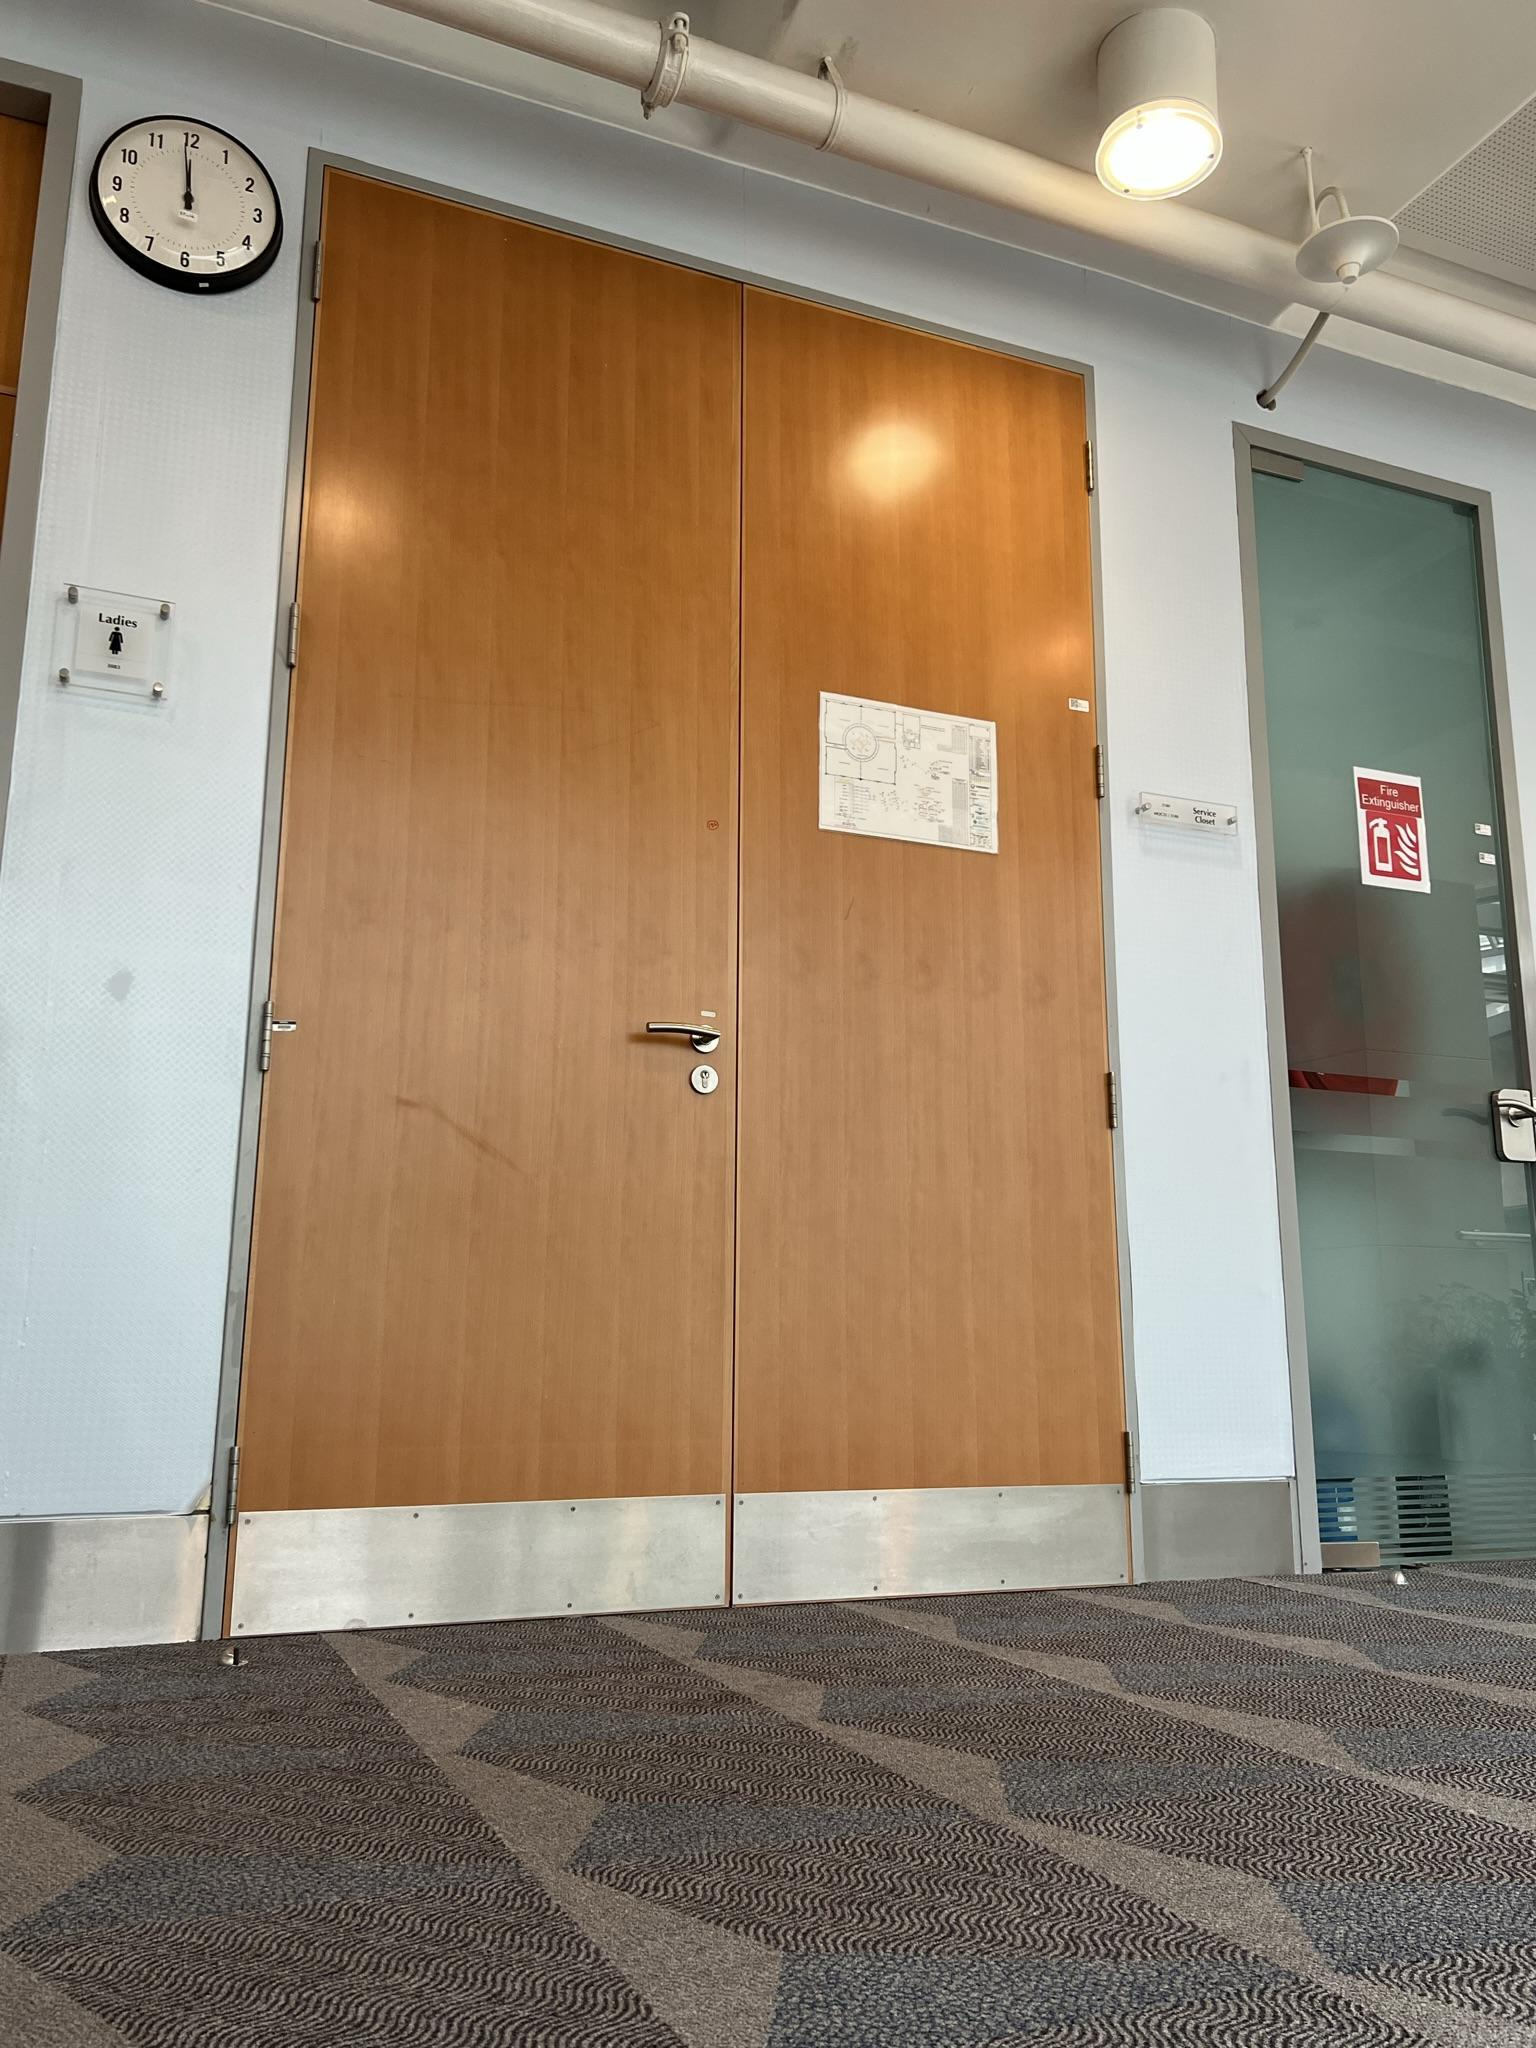door: (282, 181, 733, 1614), (728, 281, 1137, 1598), (1242, 421, 1528, 1571)
handle: (611, 992, 724, 1101), (1486, 1082, 1536, 1171)
